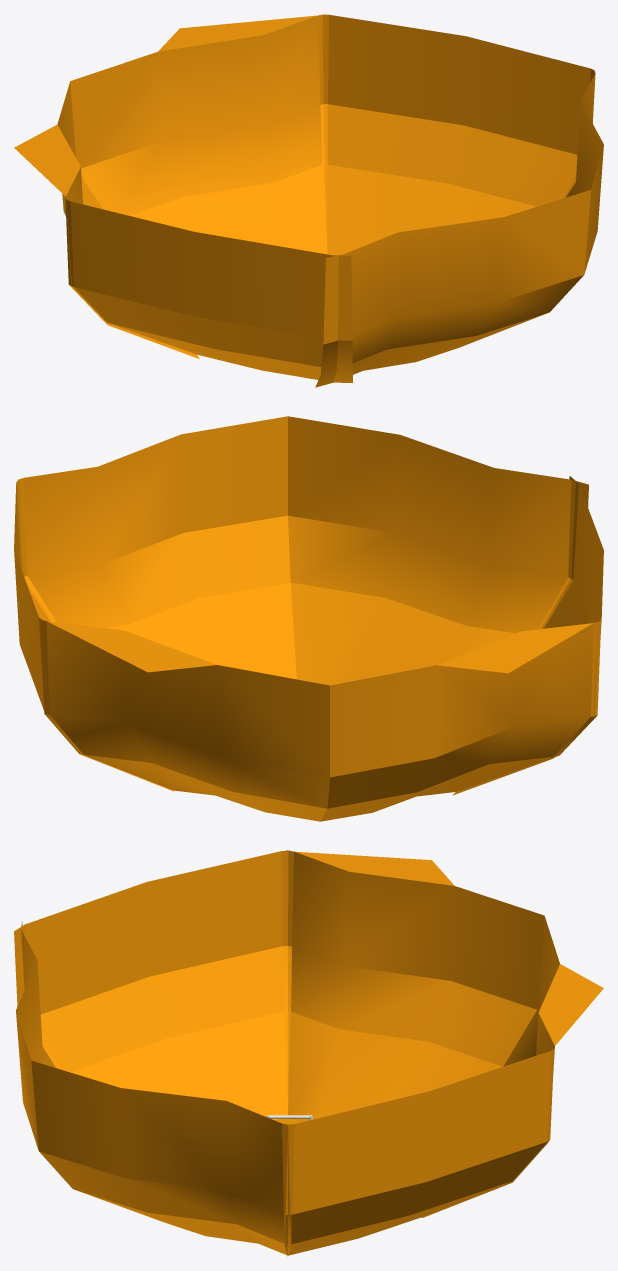
File: Level3.fbx
The picture shows the model from 3 angles, top to bottom: view 1: azimuth 30°, elevation 25°; view 2: azimuth 150°, elevation 25°; view 3: azimuth 270°, elevation 25°; orthographic projection. The views are drawn at different scales.
Parts seen in each view (by area): view 1: Estadio3; view 2: Estadio3; view 3: Estadio3.
Boxes of the visible parts, x1,y1,x2,y2 form: Estadio3: (14, 14, 603, 387); Estadio3: (14, 416, 603, 821); Estadio3: (14, 850, 603, 1256).
Bounding box in the file's own units: 134 × 46.58 × 122.
Materials: 1 (1 with a texture image).
